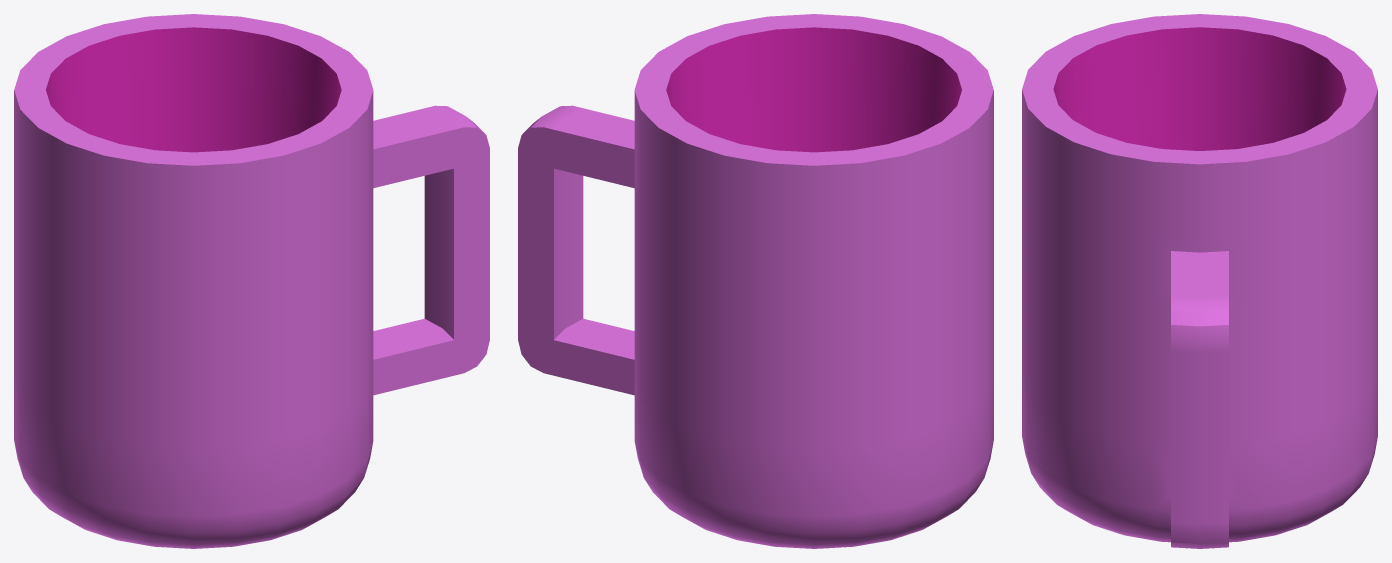
Rendered from taza_version1.fbx.
3 views of the same model, side by side, from view 1: azimuth 30°, elevation 25°; view 2: azimuth 150°, elevation 25°; view 3: azimuth 270°, elevation 25° (orthographic).
Parts seen in each view (by area): view 1: Cylinder; view 2: Cylinder; view 3: Cylinder.
Part boxes in pixels (x1,y1,x2,y2): Cylinder: (14,14,489,548); Cylinder: (518,14,993,548); Cylinder: (1022,14,1377,548).
Size of the model in its own units: 283 by 244 by 200.
